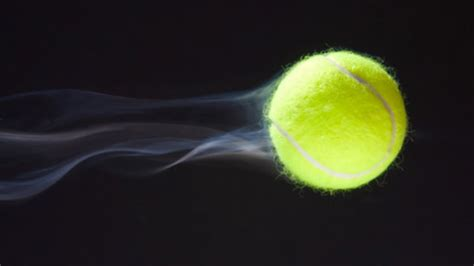tennis_ball: (262, 46, 412, 196)
